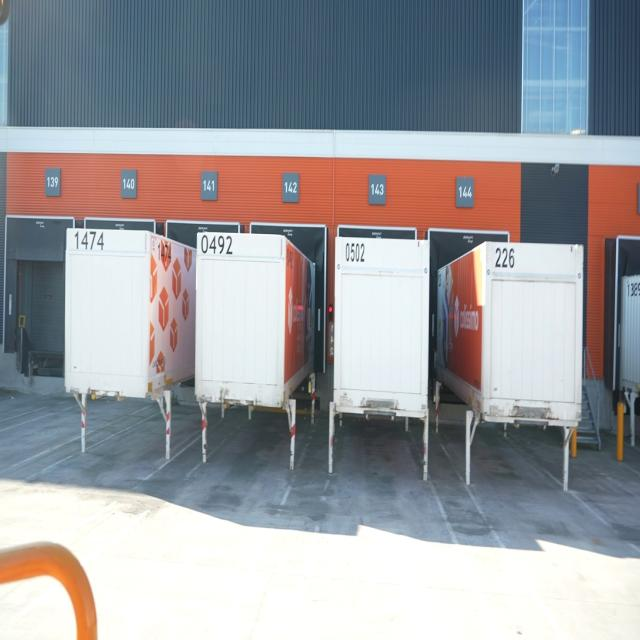Code: (199, 230, 235, 260), (72, 226, 109, 255), (490, 244, 518, 277), (342, 238, 366, 266), (154, 236, 176, 262)
